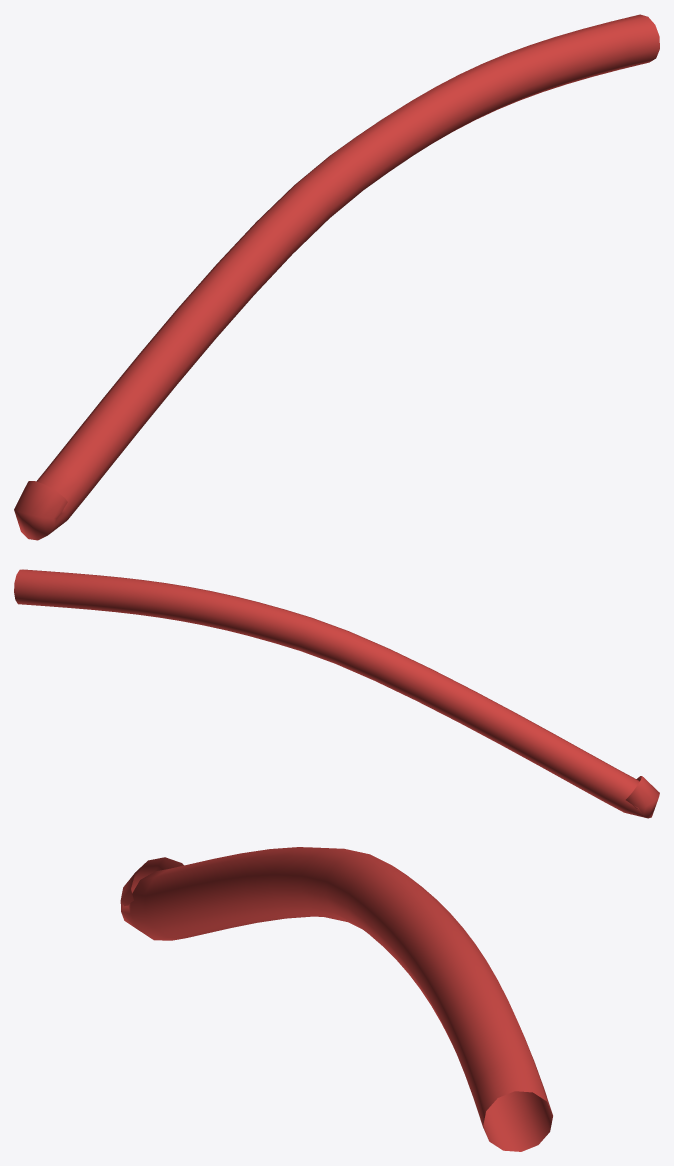
3 views of the same model, one above another, from view 1: azimuth 30°, elevation 25°; view 2: azimuth 150°, elevation 25°; view 3: azimuth 270°, elevation 25° (orthographic). The views are drawn at different scales.
Visible parts, largest first — view 1: 右侧腕背侧动脉网; view 2: 右侧腕背侧动脉网; view 3: 右侧腕背侧动脉网.
Boxes of the visible parts, x1,y1,x2,y2 form: 右侧腕背侧动脉网: (14,14,659,540); 右侧腕背侧动脉网: (14,569,659,818); 右侧腕背侧动脉网: (120,847,552,1151).
Size of the model in its own units: 0.0367 by 0.012 by 0.0125.
